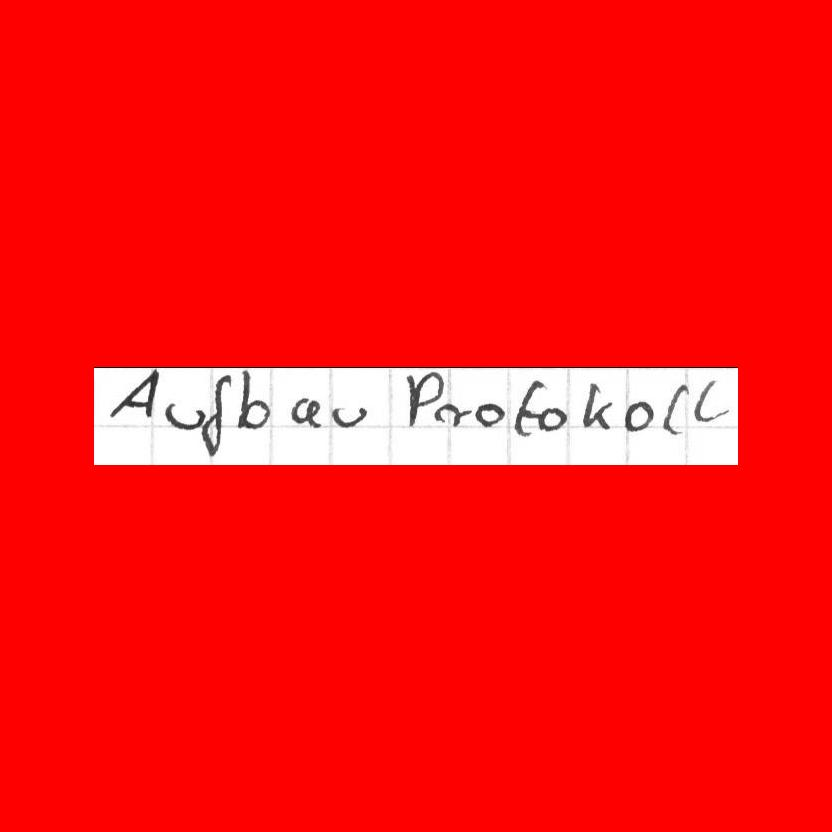Char: (198, 370, 232, 457), (111, 367, 164, 420), (402, 367, 443, 429), (236, 366, 273, 431), (580, 379, 616, 431), (692, 375, 727, 426), (511, 377, 540, 438), (660, 381, 690, 435), (163, 401, 209, 429), (288, 394, 322, 430), (431, 401, 472, 429), (472, 399, 507, 431), (328, 401, 368, 428), (624, 399, 654, 433), (536, 404, 573, 430)
